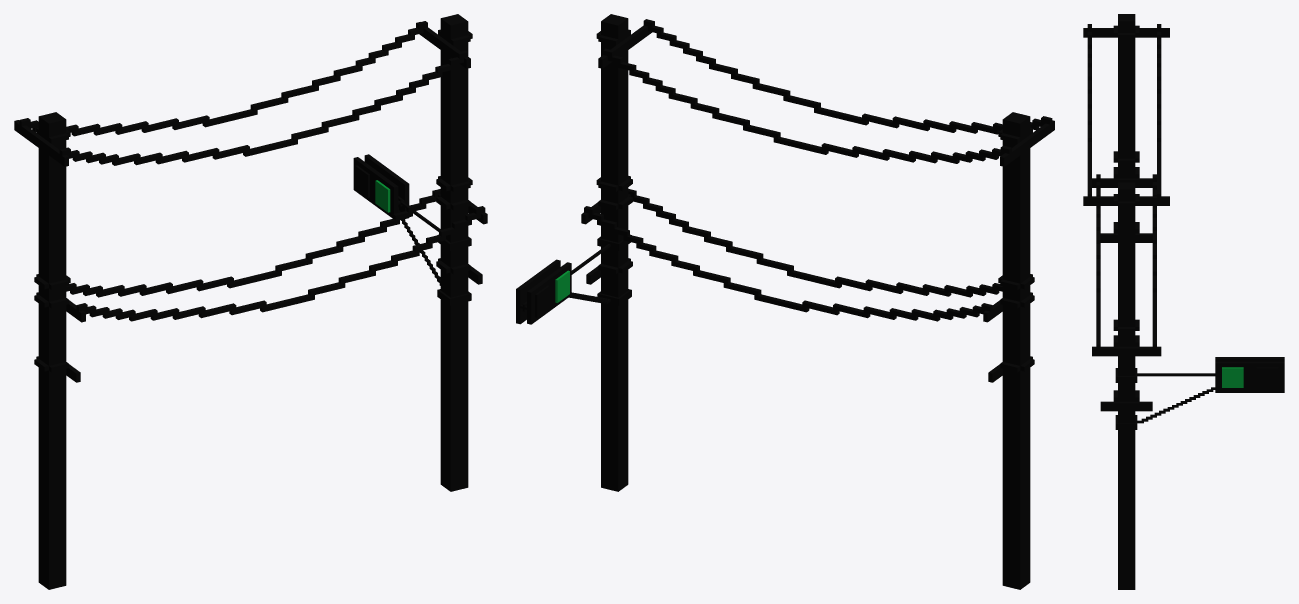
The model's file is GDS2_Interactables.obj.
3 views of the same model, side by side, from view 1: azimuth 30°, elevation 25°; view 2: azimuth 150°, elevation 25°; view 3: azimuth 270°, elevation 25° (orthographic). The views are drawn at different scales.
Parts seen in each view (by area): view 1: GDS2_Interactables; view 2: GDS2_Interactables; view 3: GDS2_Interactables.
Part boxes in pixels (<box>): GDS2_Interactables: <box>14,14,487,589</box>; GDS2_Interactables: <box>516,14,1054,589</box>; GDS2_Interactables: <box>1083,14,1284,589</box>.
Size of the model in its own units: 19.6 by 20.4 by 9.3.
